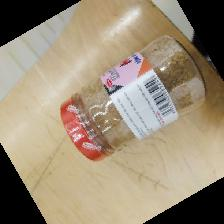Hao_hao: (59, 33, 207, 162)
